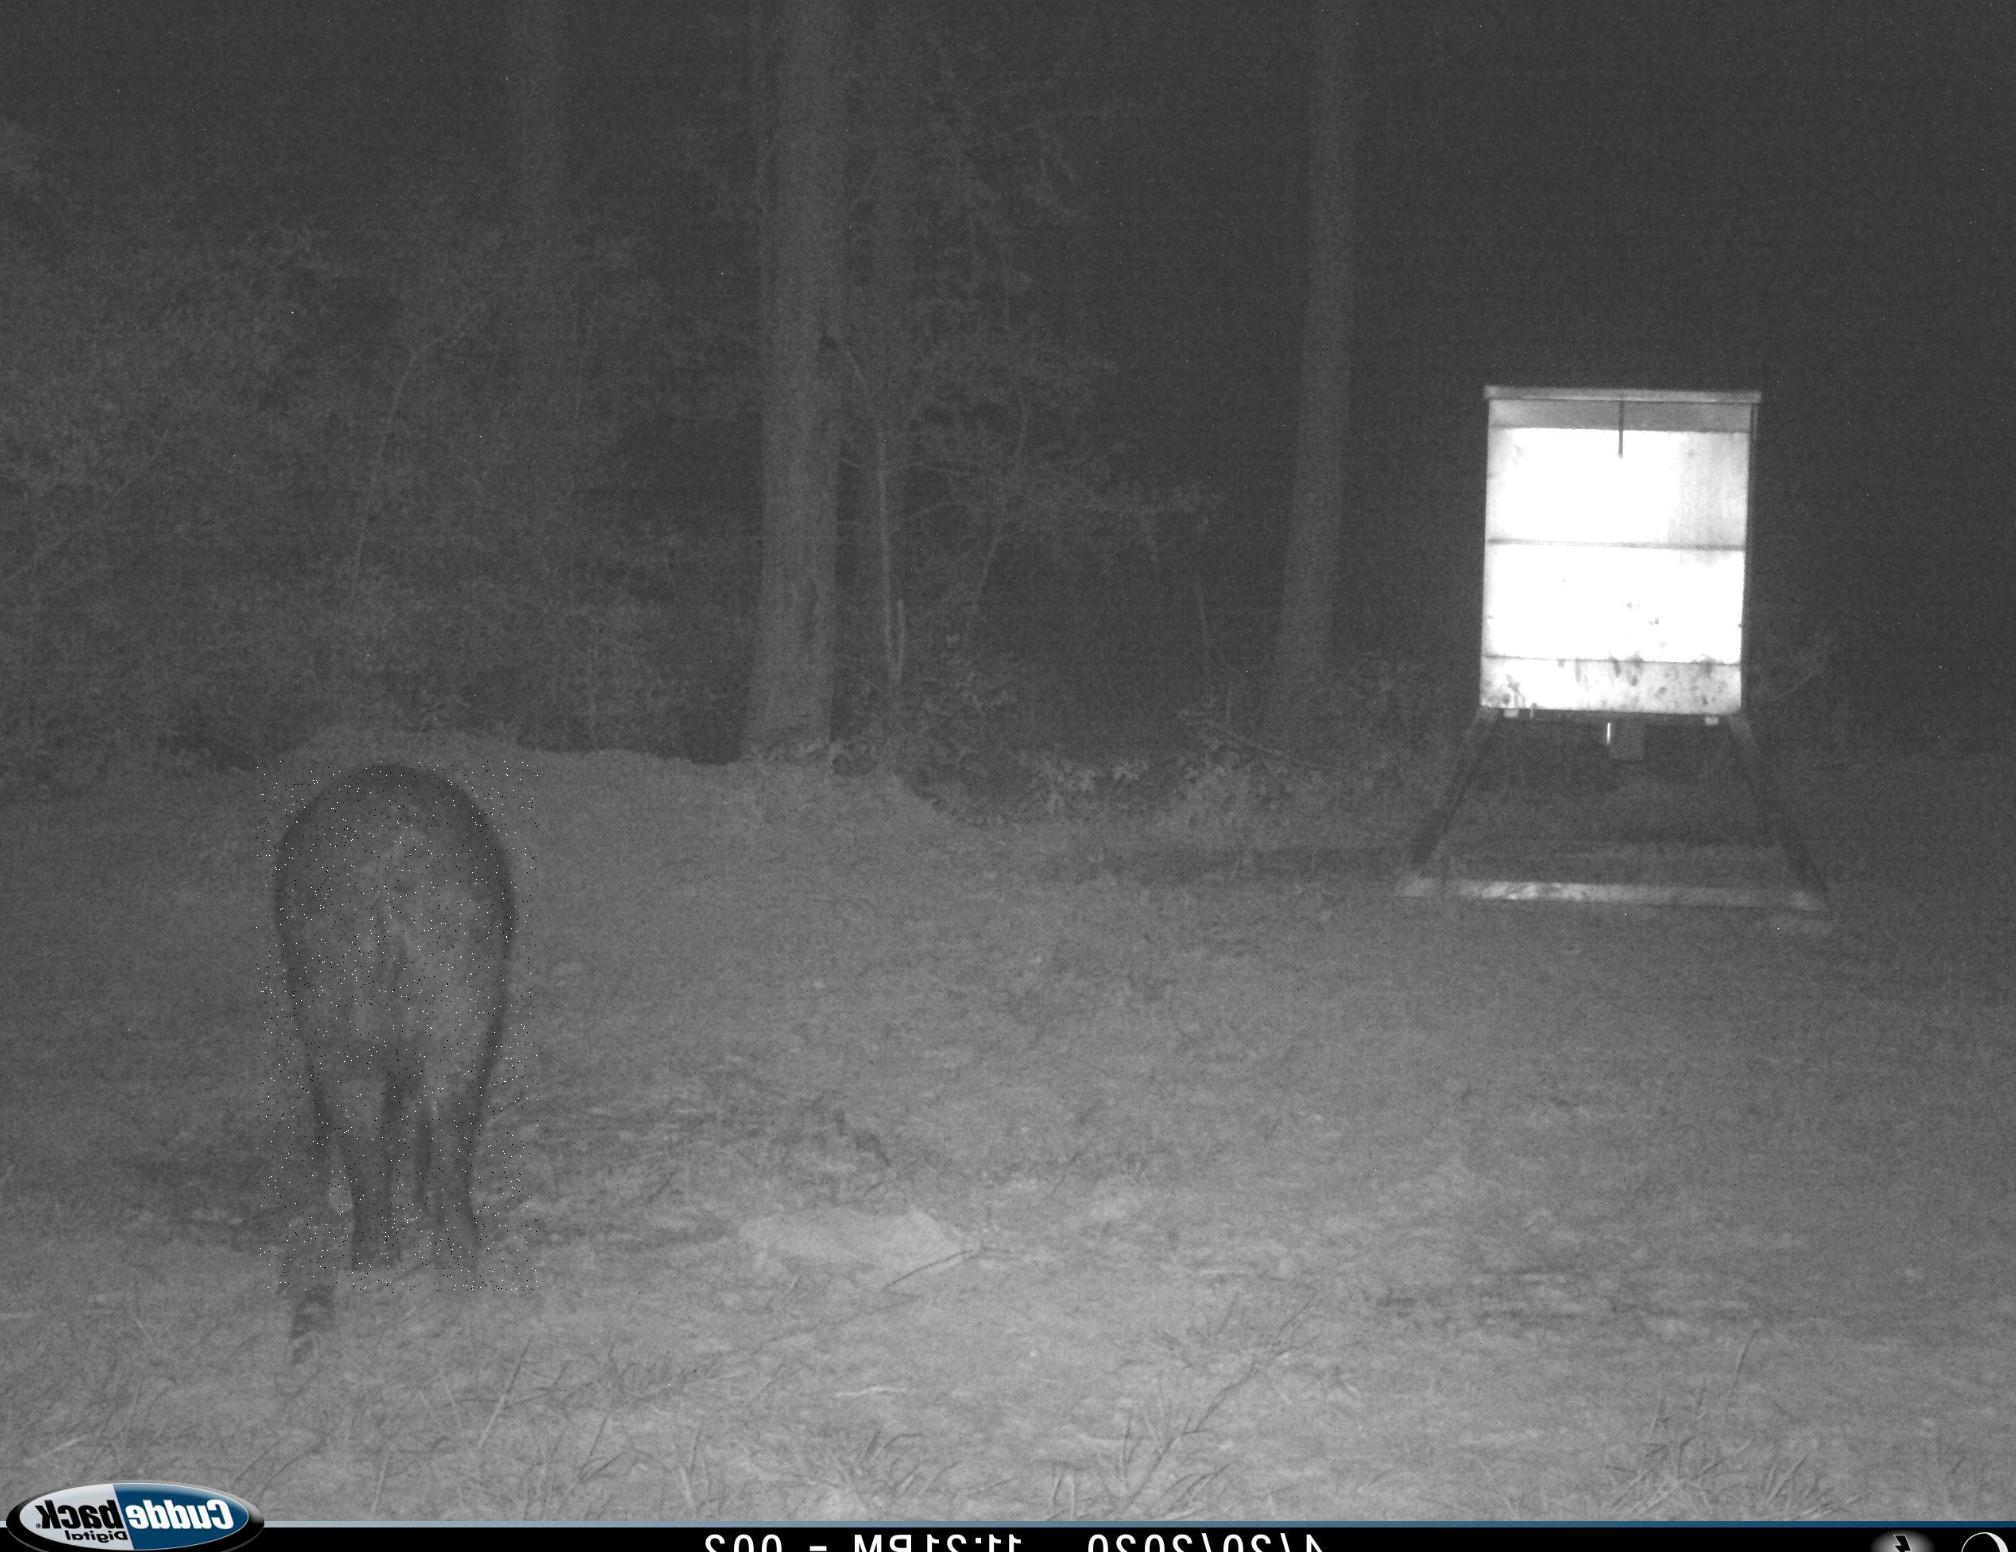Hog: (256, 761, 538, 1293)
